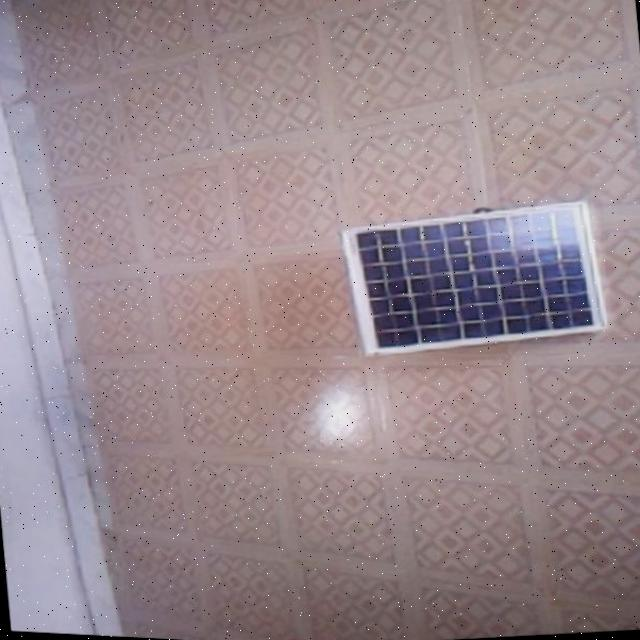Normal Solar Panel: (341, 193, 607, 370)
